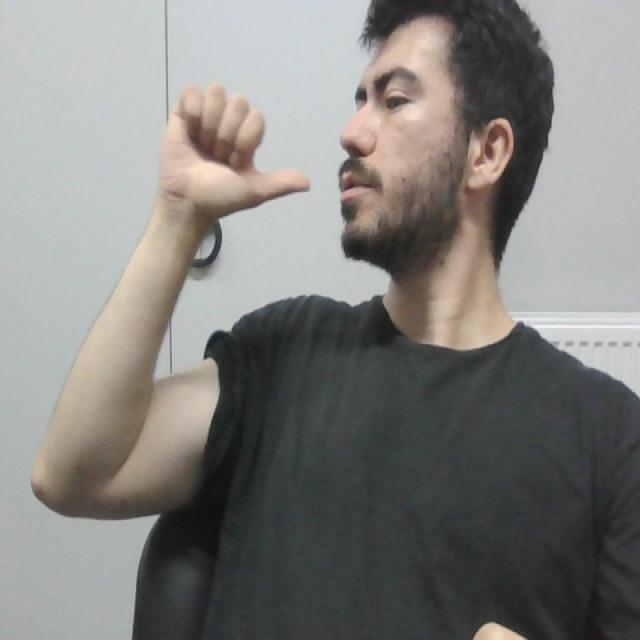icmek: (128, 78, 367, 231)
